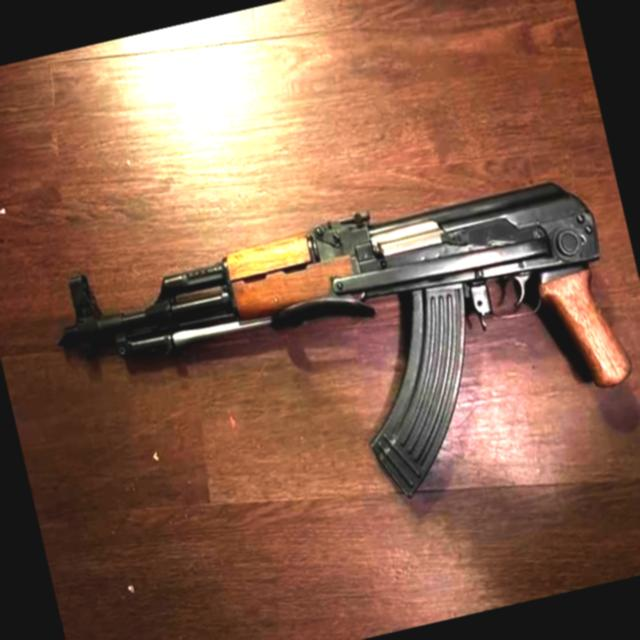ak: (37, 146, 640, 576)
